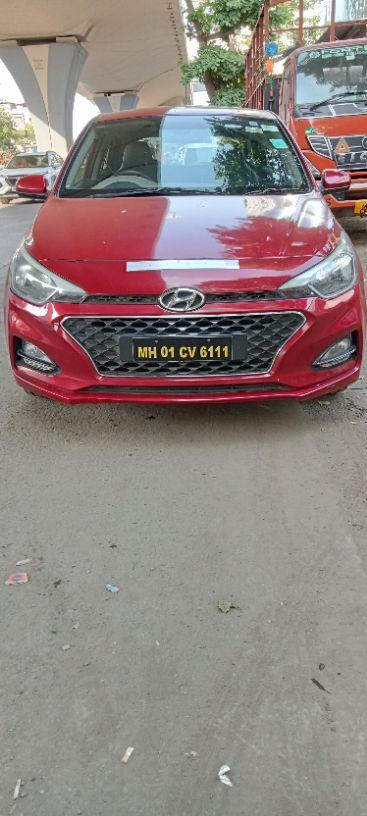license_plate: (126, 333, 235, 363)
